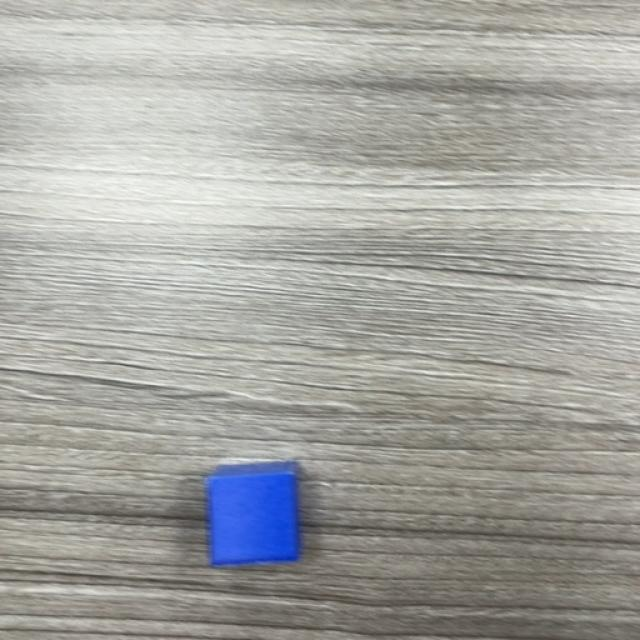Azul: (205, 461, 301, 569)
